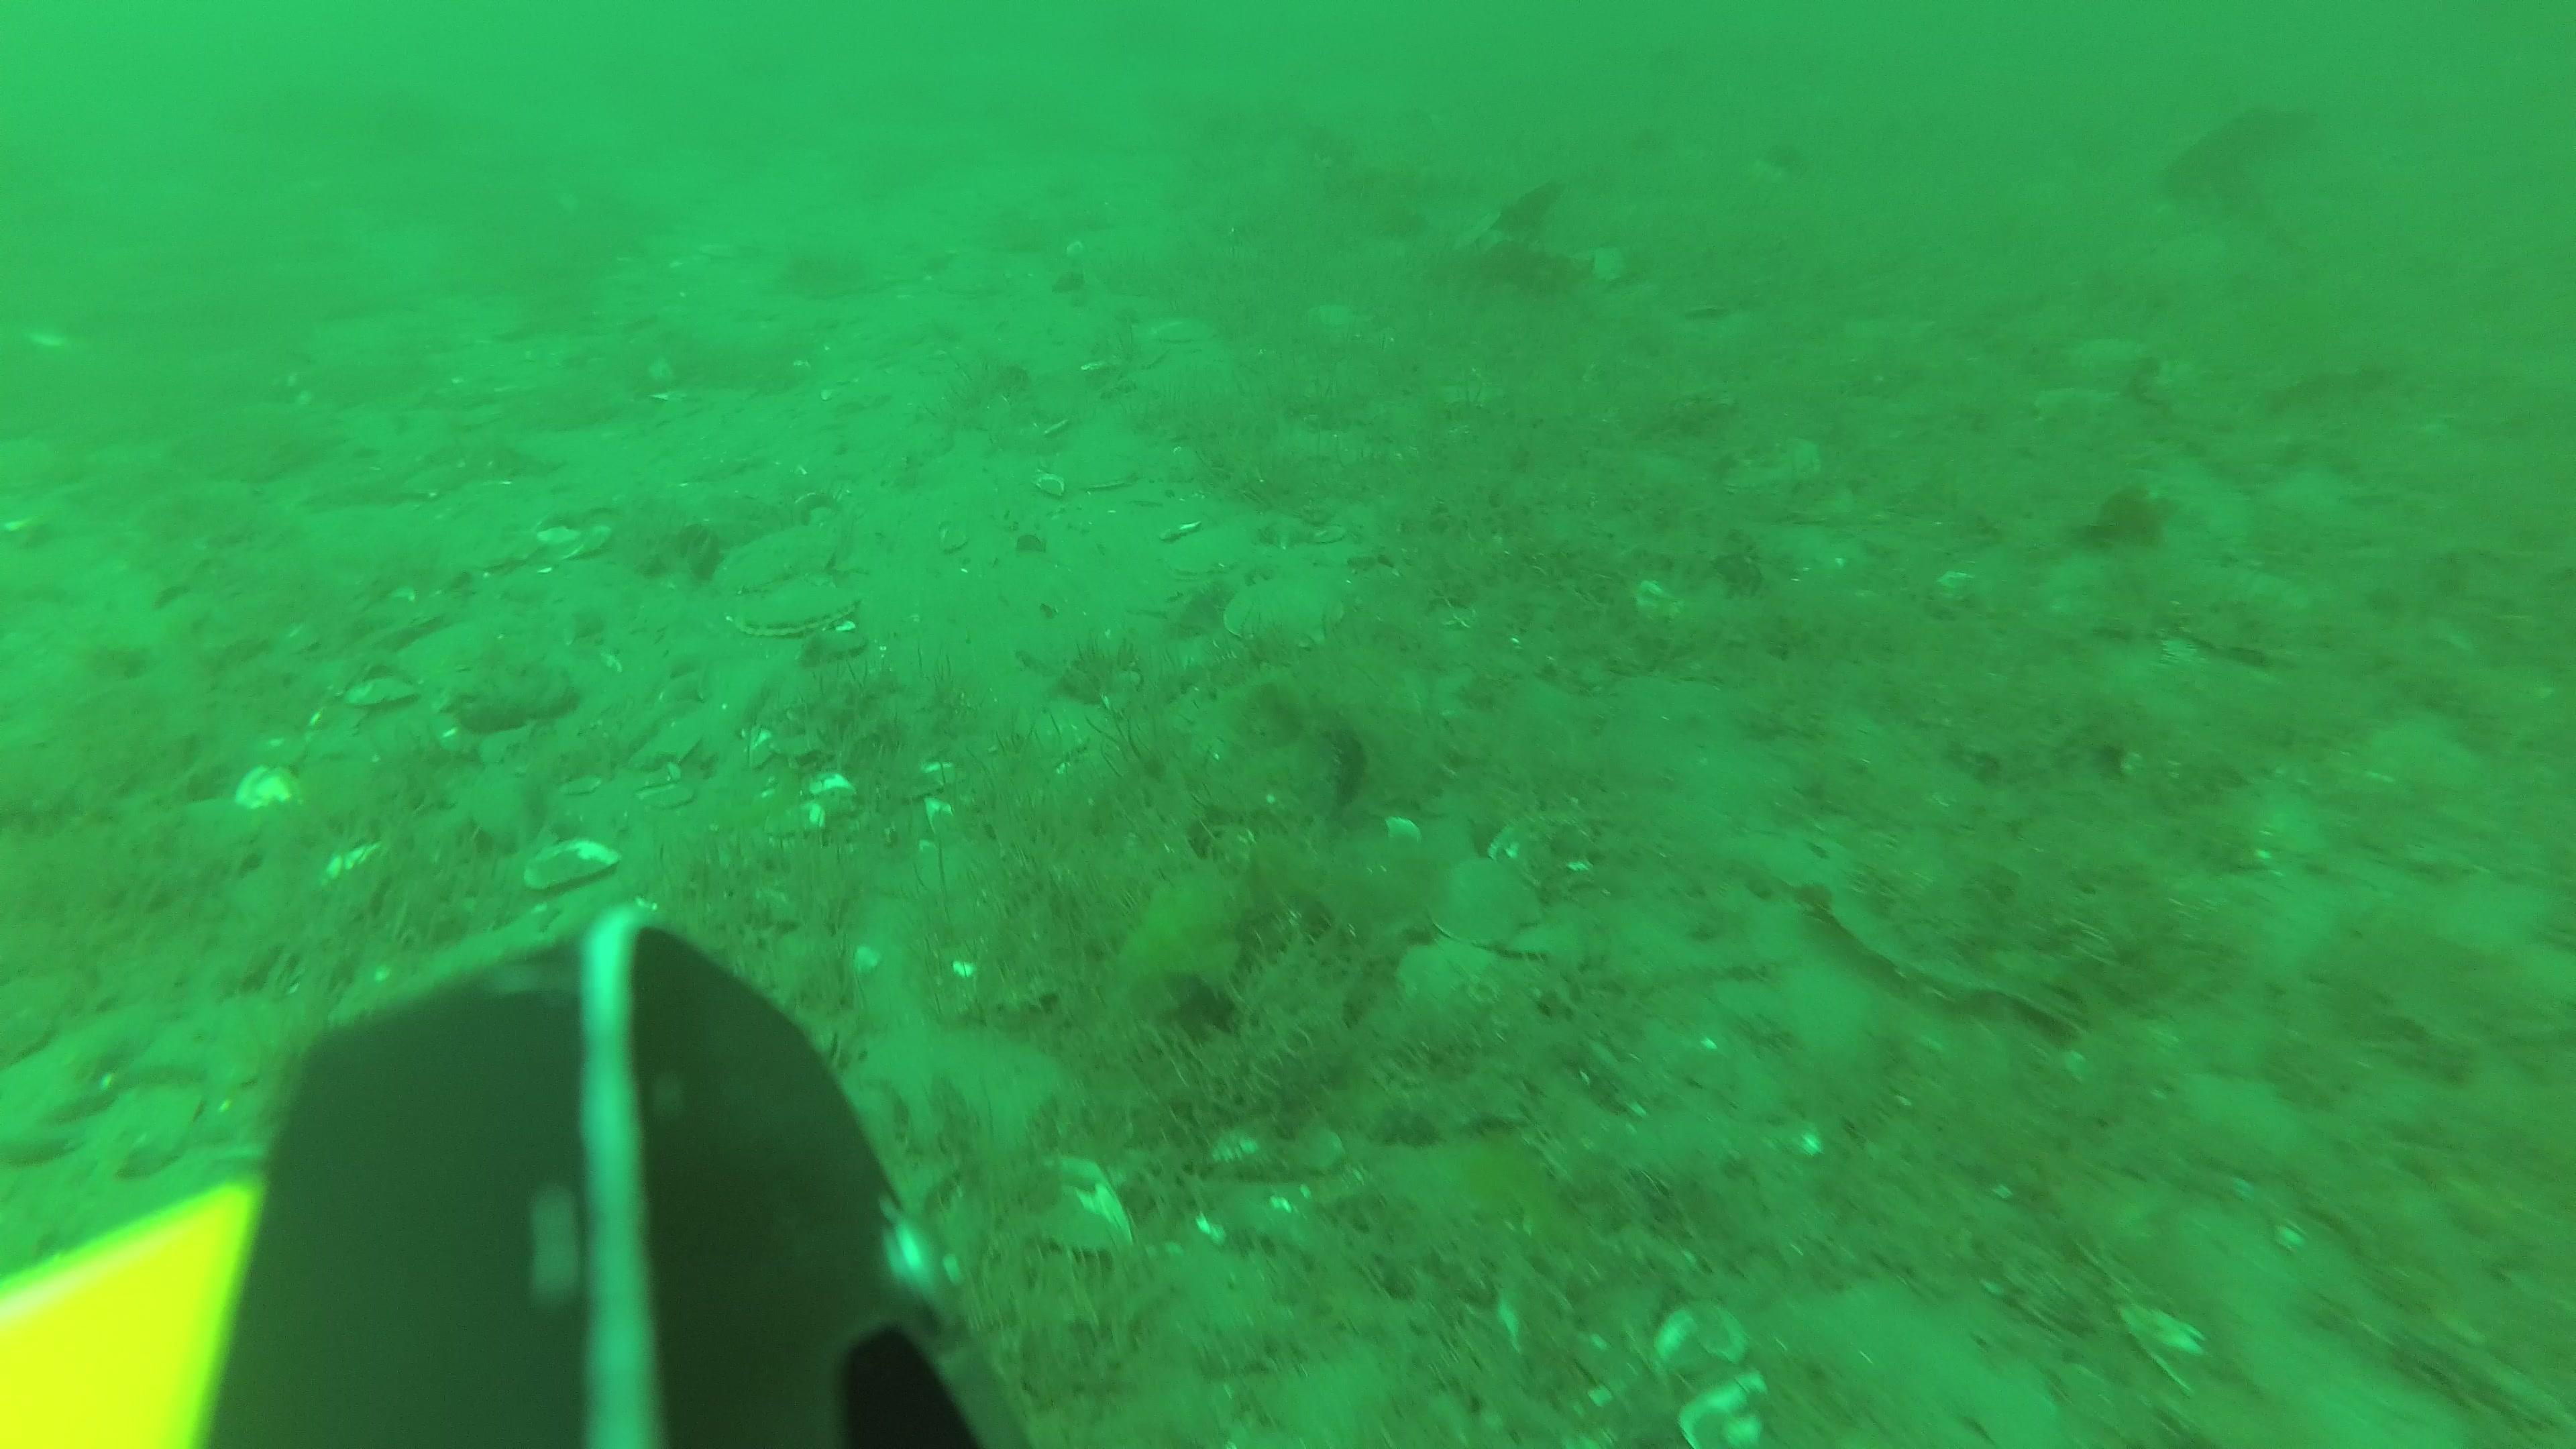scallop: (1226, 561, 1352, 651), (711, 517, 840, 594), (1435, 858, 1541, 945), (1401, 936, 1495, 1012), (740, 577, 860, 635), (1161, 524, 1254, 579), (1062, 446, 1145, 492)
